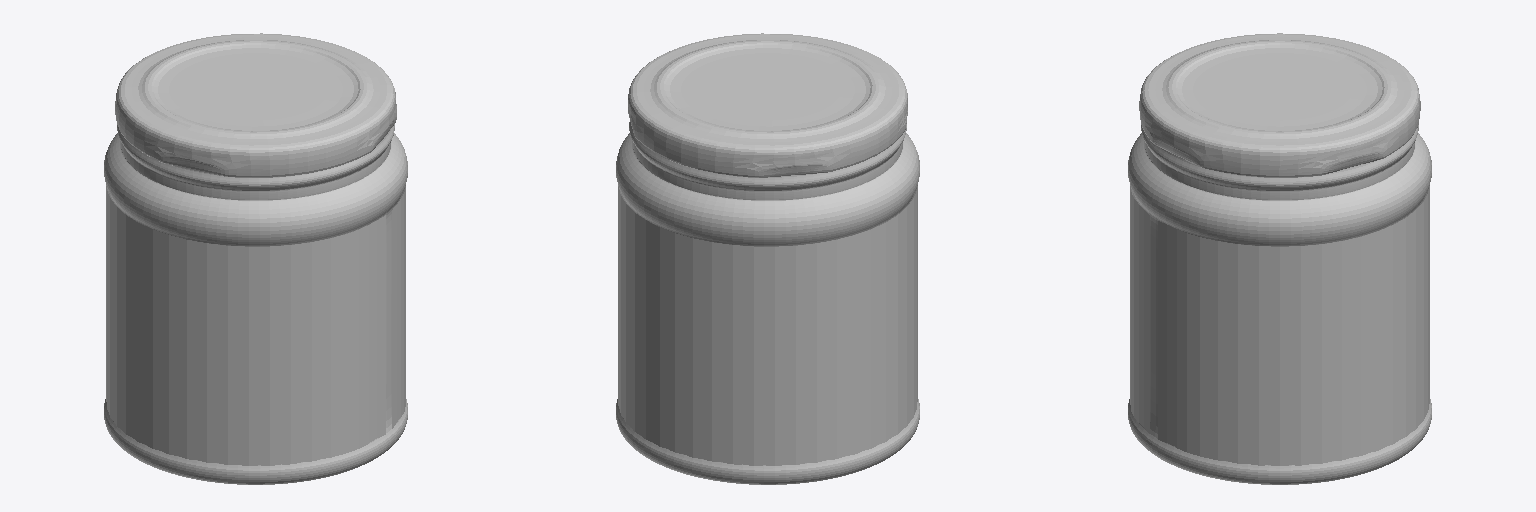
Rendered from kalchi-jar.obj.
3 renders of one model, left to right at view 1: azimuth 30°, elevation 25°; view 2: azimuth 150°, elevation 25°; view 3: azimuth 270°, elevation 25°, orthographic.
Parts seen in each view (by area): view 1: polySurface6 group1, group1 polySurface4, group1 polySurface7; view 2: polySurface6 group1, group1 polySurface4, group1 polySurface7; view 3: polySurface6 group1, group1 polySurface4, group1 polySurface7.
Part boxes in pixels (x1,y1,x2,y2): polySurface6 group1: (106, 186, 405, 465); group1 polySurface4: (115, 33, 396, 177); group1 polySurface7: (104, 124, 407, 484); polySurface6 group1: (618, 186, 917, 465); group1 polySurface4: (628, 33, 907, 177); group1 polySurface7: (616, 122, 919, 484); polySurface6 group1: (1130, 186, 1429, 465); group1 polySurface4: (1139, 33, 1420, 177); group1 polySurface7: (1128, 125, 1431, 484).
Bounding box in the file's own units: 8.47 × 10.36 × 8.47.